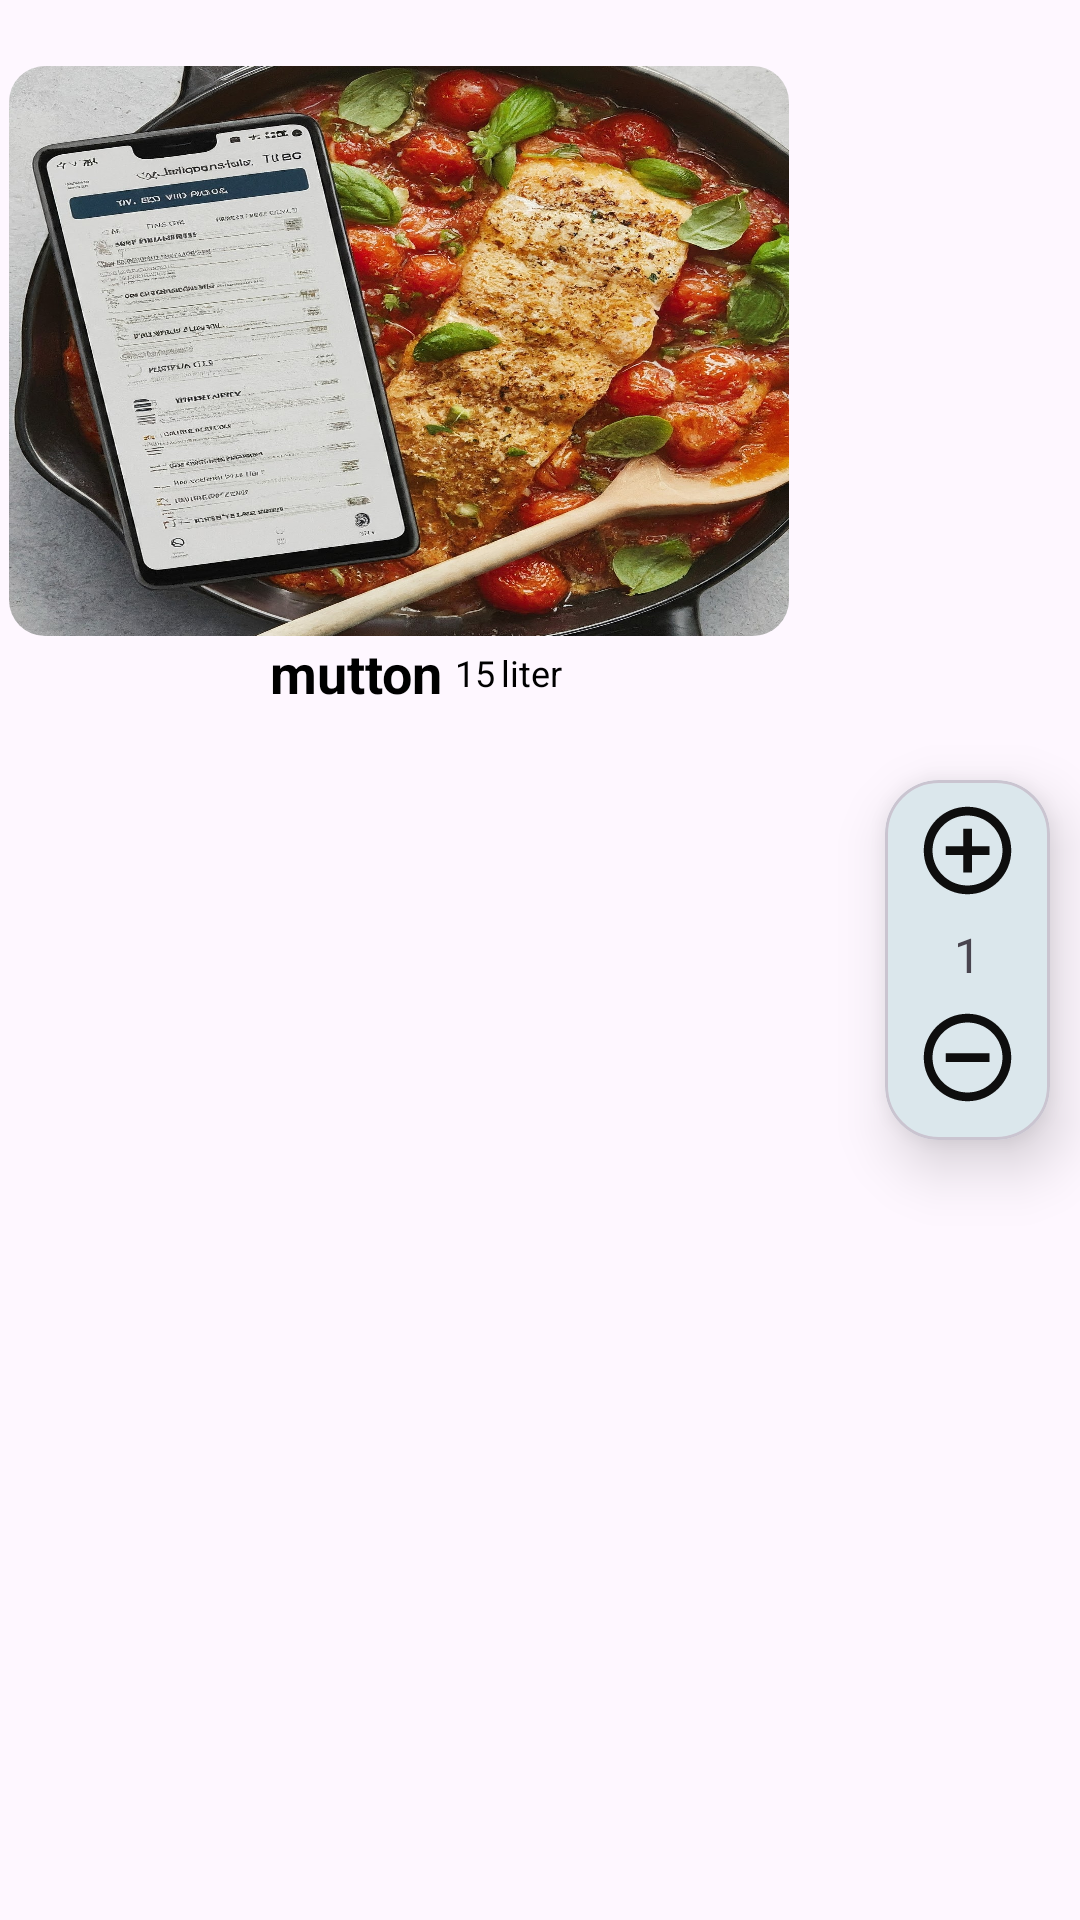

Point at icon controls on the screen. Image size 1080px×1920px, points as point (x, y).
add circle: point (967, 850)
remove circle: point (967, 1057)
